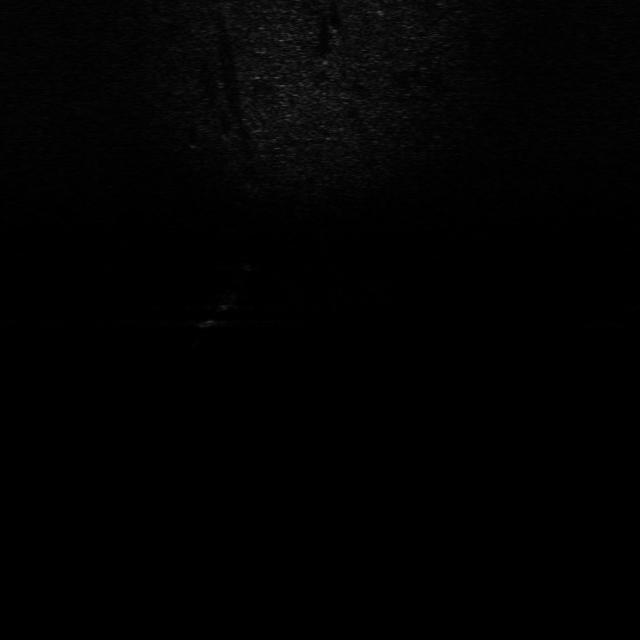human body: (194, 260, 262, 340)
